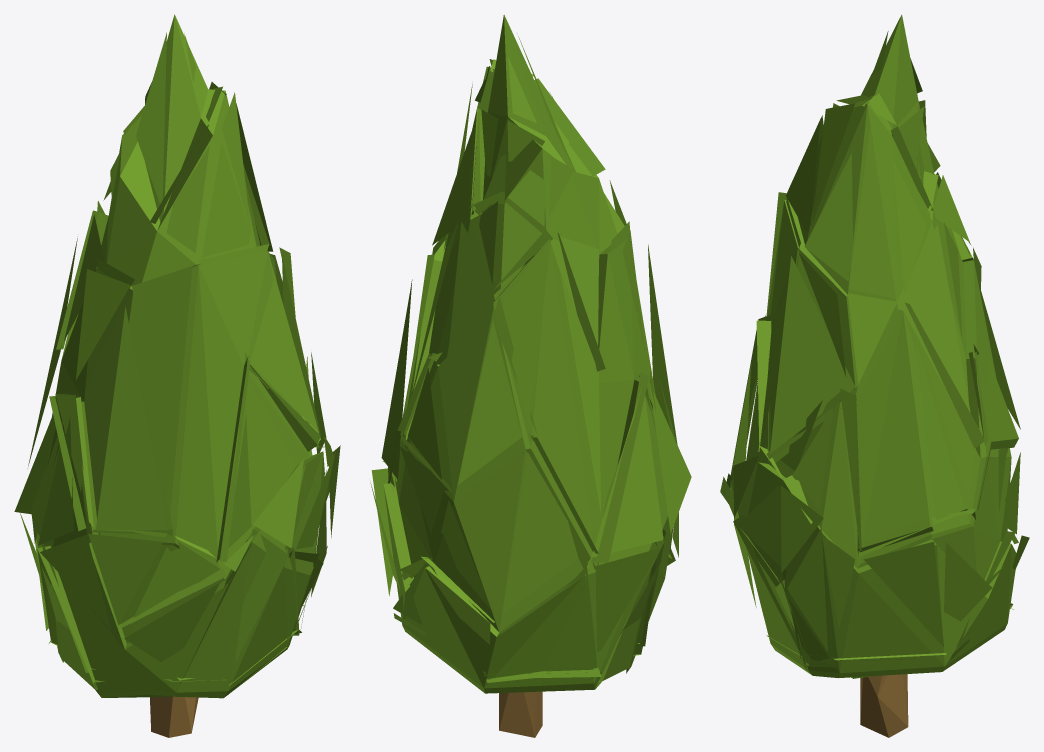
File: Arbo.fbx
The picture shows the model from 3 angles, left to right: view 1: azimuth 30°, elevation 25°; view 2: azimuth 150°, elevation 25°; view 3: azimuth 270°, elevation 25°; orthographic projection.
Parts seen in each view (by area): view 1: extraleaves.001, leaves, trunk.003; view 2: leaves, extraleaves.001, trunk.003; view 3: extraleaves.001, leaves, trunk.003.
Boxes of the visible parts, x1,y1,x2,y2 form: extraleaves.001: [14, 32, 340, 685]; leaves: [36, 14, 324, 698]; trunk.003: [150, 696, 198, 737]; leaves: [383, 14, 672, 693]; extraleaves.001: [370, 33, 691, 682]; trunk.003: [499, 691, 542, 737]; extraleaves.001: [720, 31, 1029, 667]; leaves: [729, 14, 1016, 678]; trunk.003: [860, 674, 908, 737].
Size of the model in its own units: 314 by 778 by 303.
